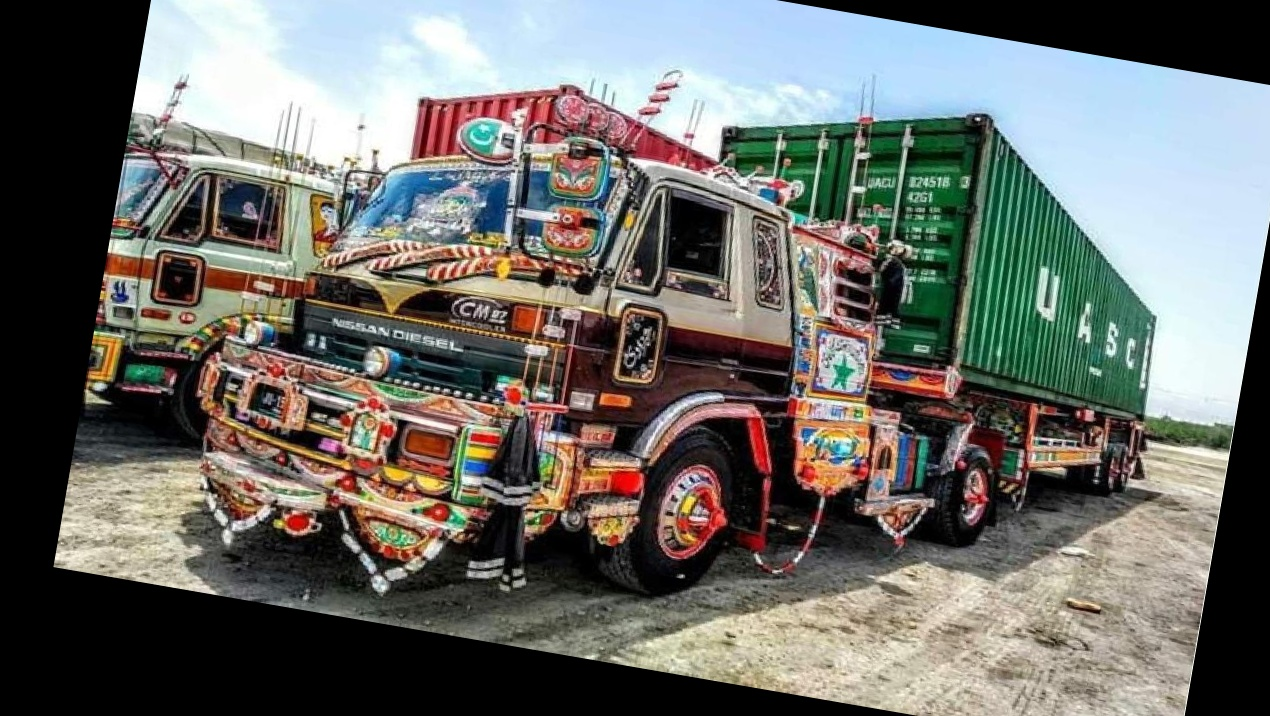truck: (166, 0, 1189, 707), (81, 116, 356, 448)
